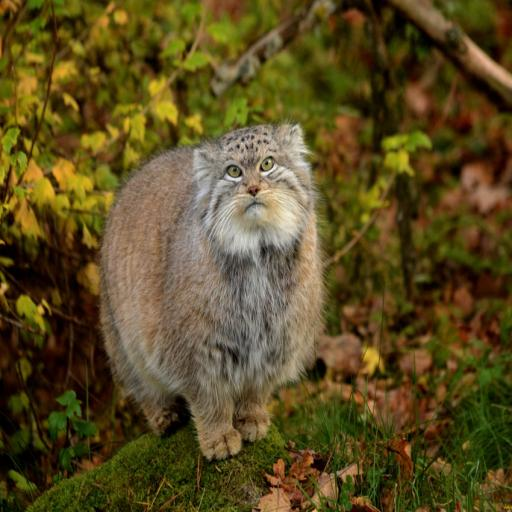manul: (100, 125, 323, 459)
